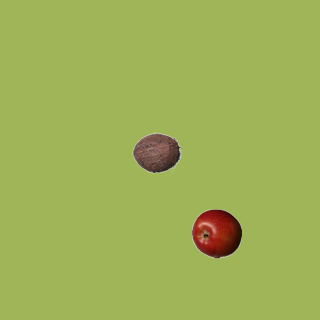Apple Braeburn: (191, 208, 241, 258)
Cocos: (131, 127, 181, 177)
